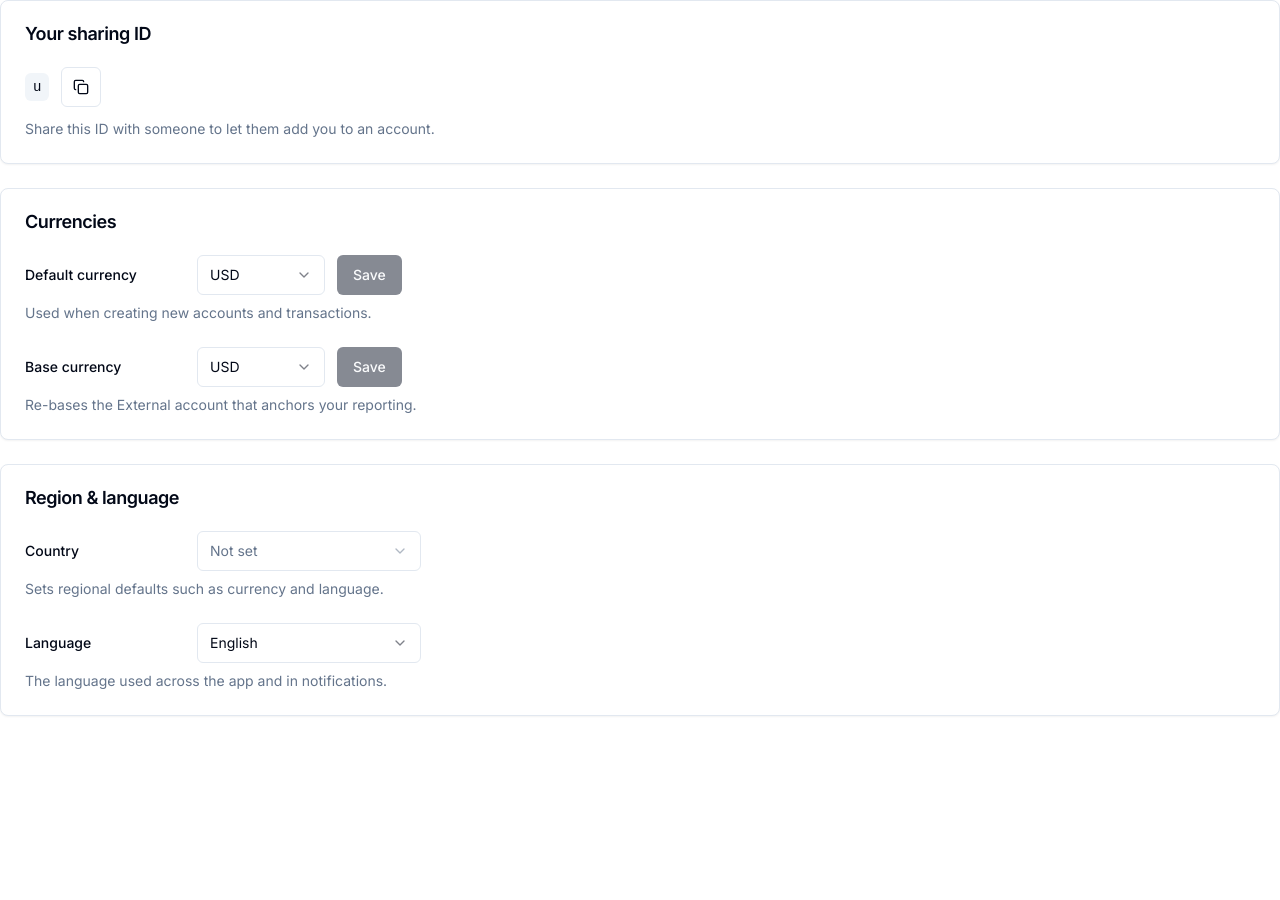
Scenario: ProfileGeneralPane › shows inline error from a 400 response
Click the dropdown named "Default currency" at (261, 275), box [197,255,325,295]
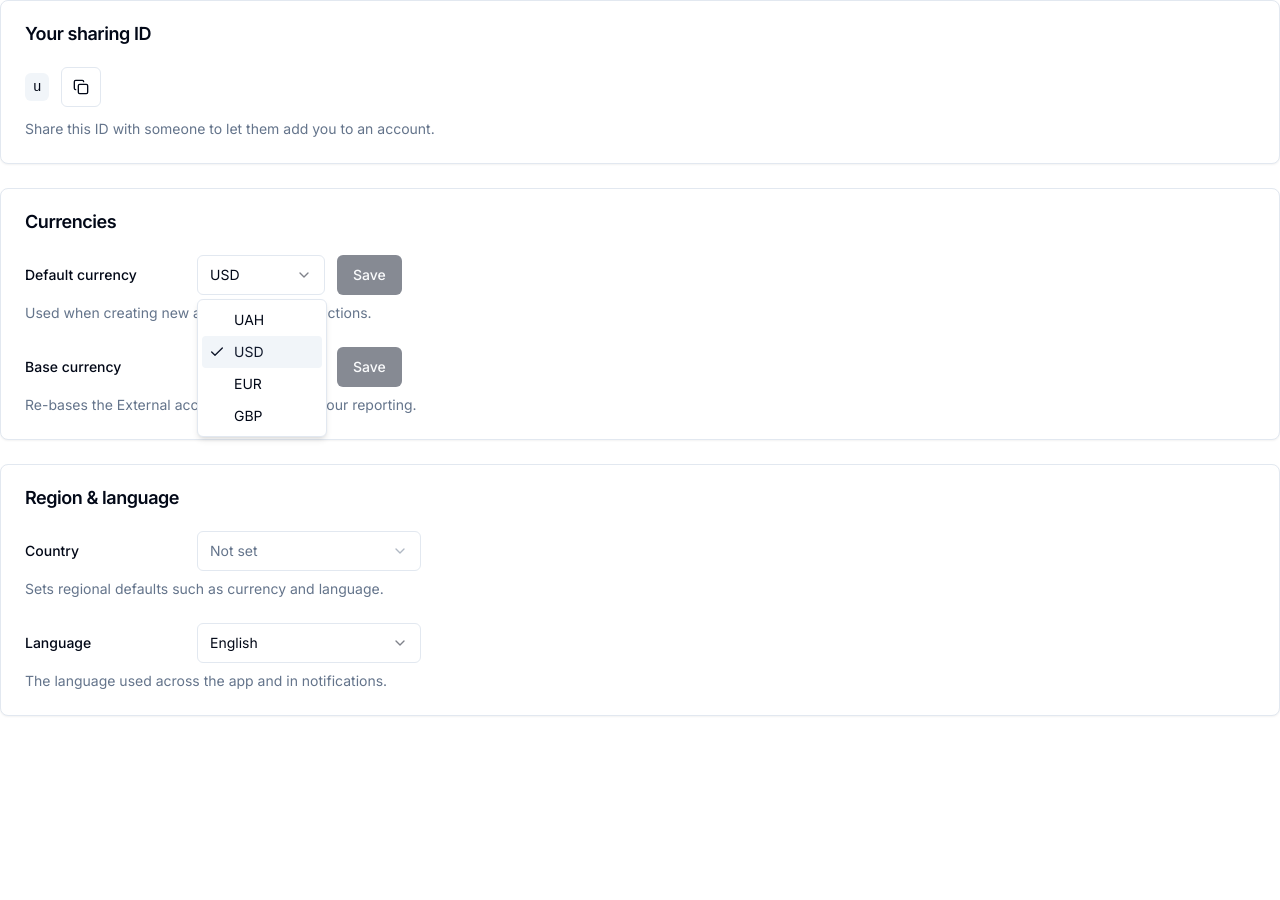
Click the option "EUR" at (248, 384), box [234,375,262,392]
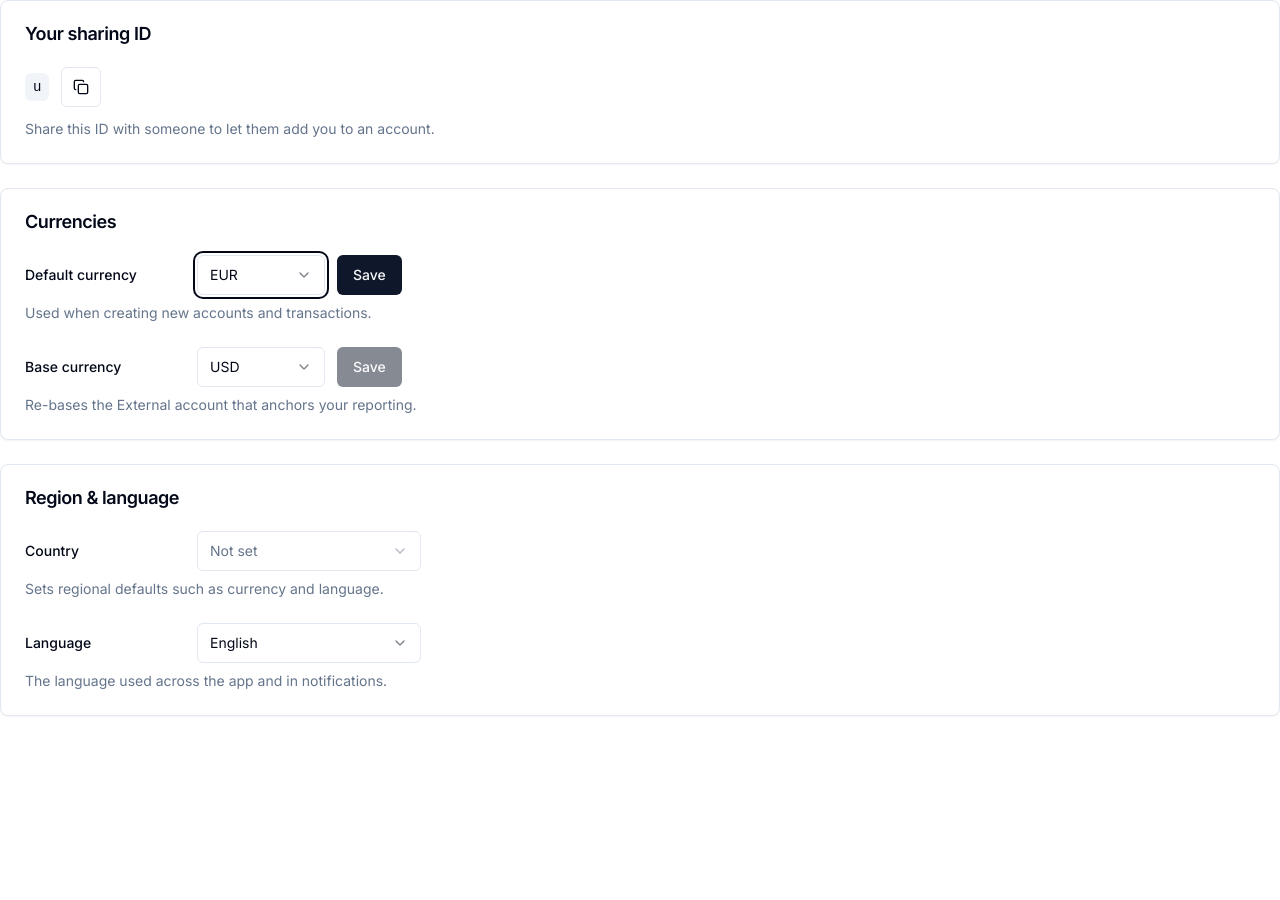
Click the button "Save" in the row of "Default currency" at (369, 275), box [337,255,402,295]
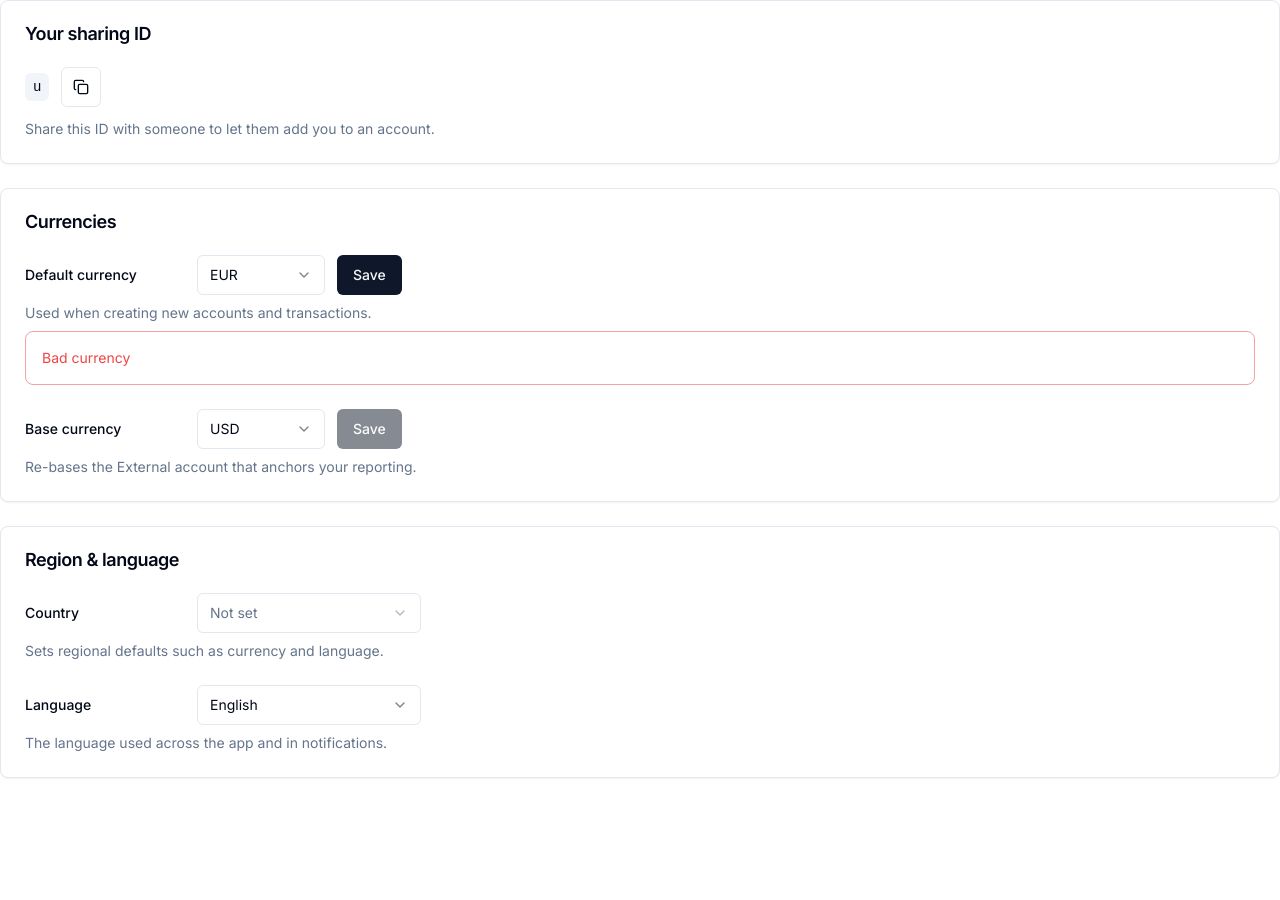
Result: the message reads "Bad currency" at [42,349,130,366]
